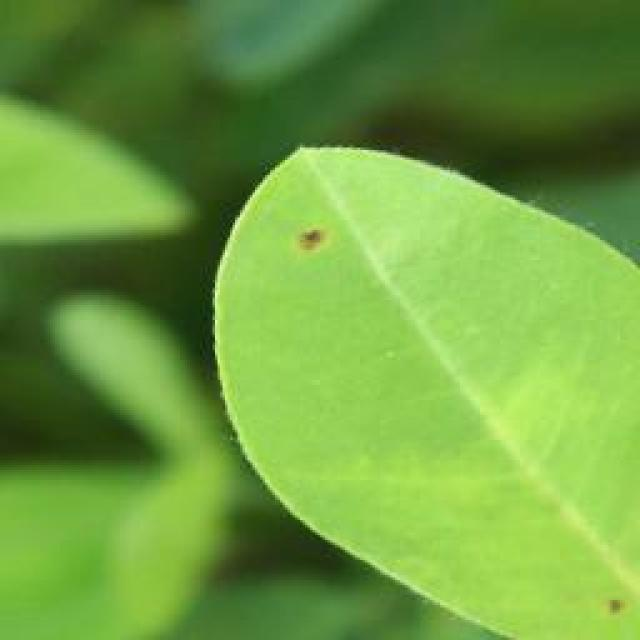Sigatoka: (276, 208, 344, 266), (581, 580, 640, 640)
